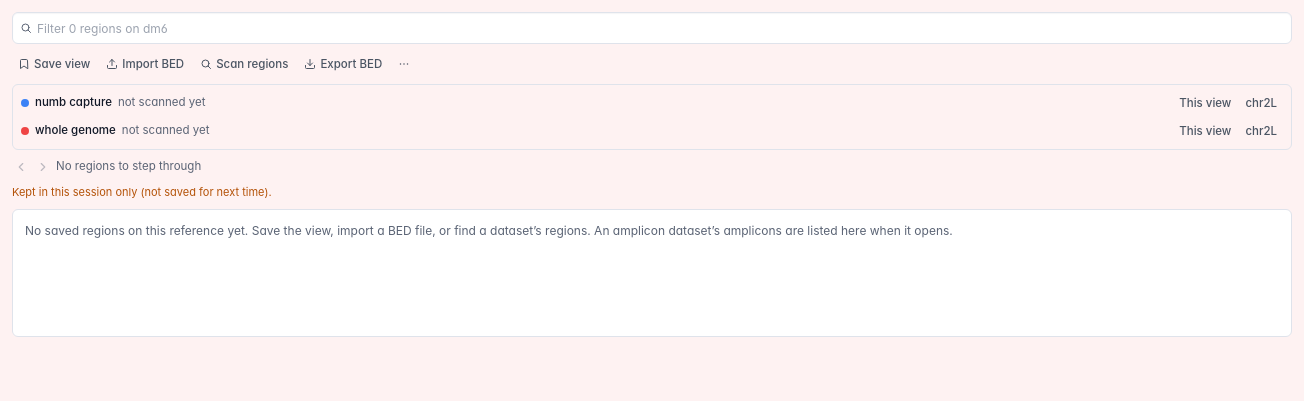
it: Regions › Scan regions: every open dataset says what it found or why not › scans the open datasets, files each one's regions under its name, and says why one was skipped
The width and height of the screenshot is (1304, 401).
Click the button with test id "region-find": coordinates (244, 64) [194, 52, 294, 76]
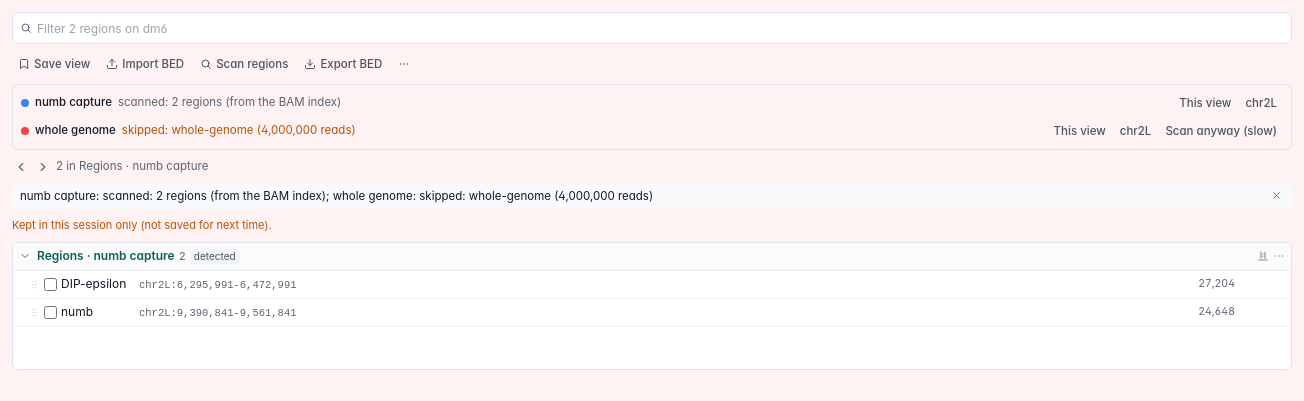
Expected: the 2nd button with test id "region-scan-view" is shown, [1048, 119, 1112, 143]
Now the text with test id "region-scan-status" reads "scanned: 2 regions (from the BAM index)", box [118, 95, 341, 109]
Now the text with test id "region-scan-status" reads "skipped: whole-genome (4,000,000 reads)", box [122, 123, 356, 137]
Click the button with test id "region-scan-anyway": coordinates (1221, 131) [1159, 119, 1283, 143]
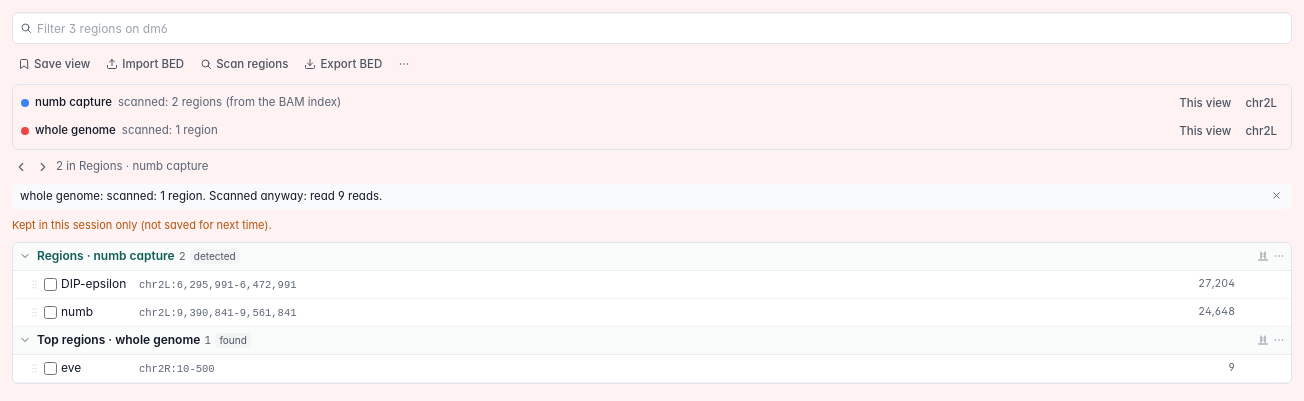
Now the text with test id "region-scan-status" reads "scanned: 1 region", box [122, 123, 218, 137]
